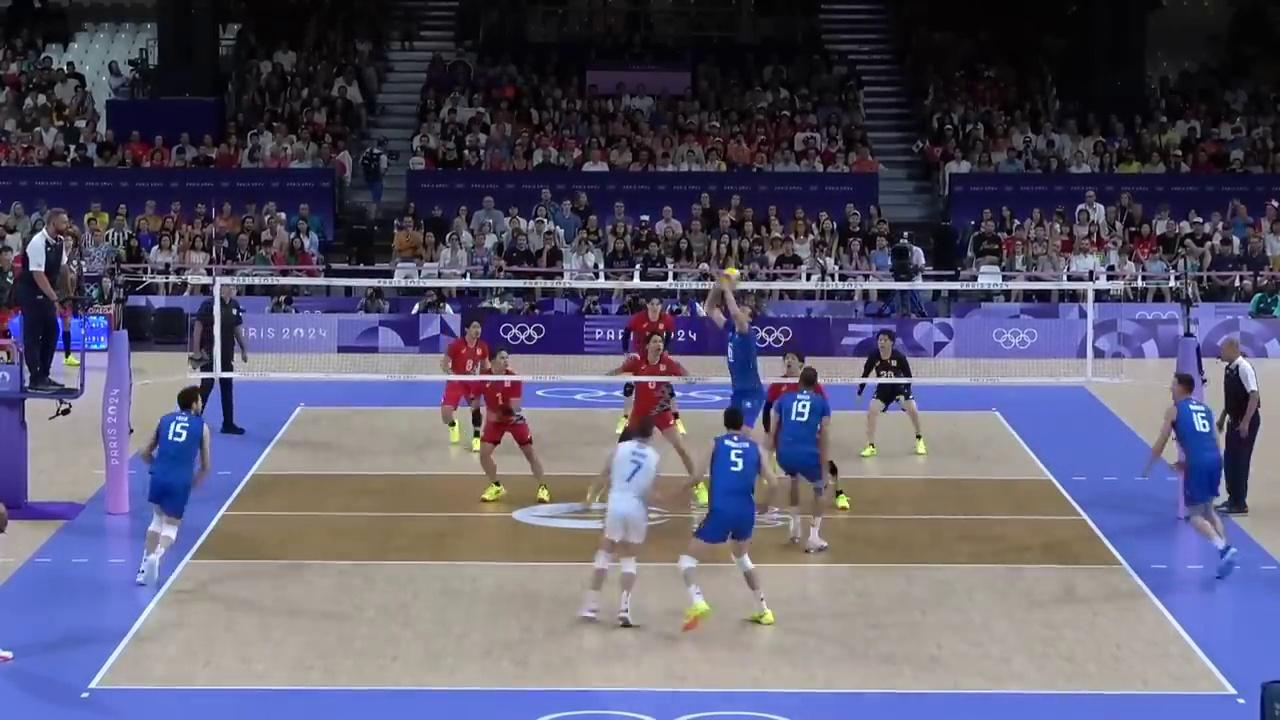ball: (722, 266, 741, 288)
